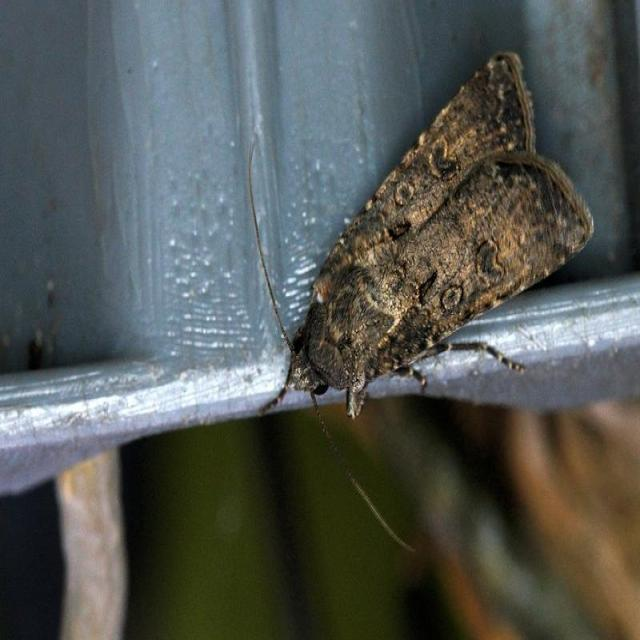black cutworm: (268, 54, 595, 423)
